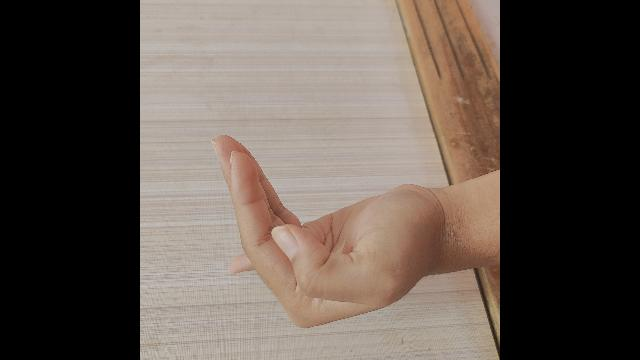Hamsapaksha: (213, 133, 500, 329)
